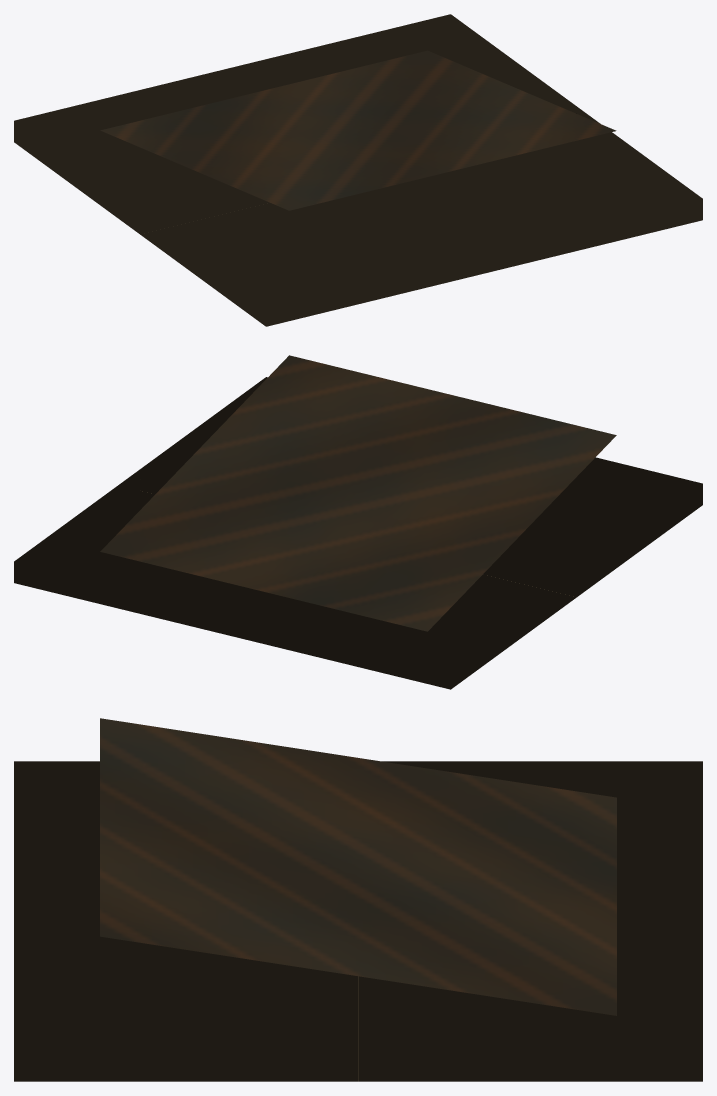
The model's file is trap_t7_pressure_plate.glb.
3 renders of one model, top to bottom at view 1: azimuth 30°, elevation 25°; view 2: azimuth 150°, elevation 25°; view 3: azimuth 270°, elevation 25°, orthographic. The views are drawn at different scales.
Visible parts, largest first — view 1: trap_t7_pressure_plate; view 2: trap_t7_pressure_plate; view 3: trap_t7_pressure_plate.
Part boxes in pixels (x1,y1,x2,y2): trap_t7_pressure_plate: (14, 14, 702, 326); trap_t7_pressure_plate: (14, 355, 702, 689); trap_t7_pressure_plate: (14, 718, 702, 1081).
Size of the model in its own units: 0.85 by 0.148 by 0.85.
1 material, 1 textured.
